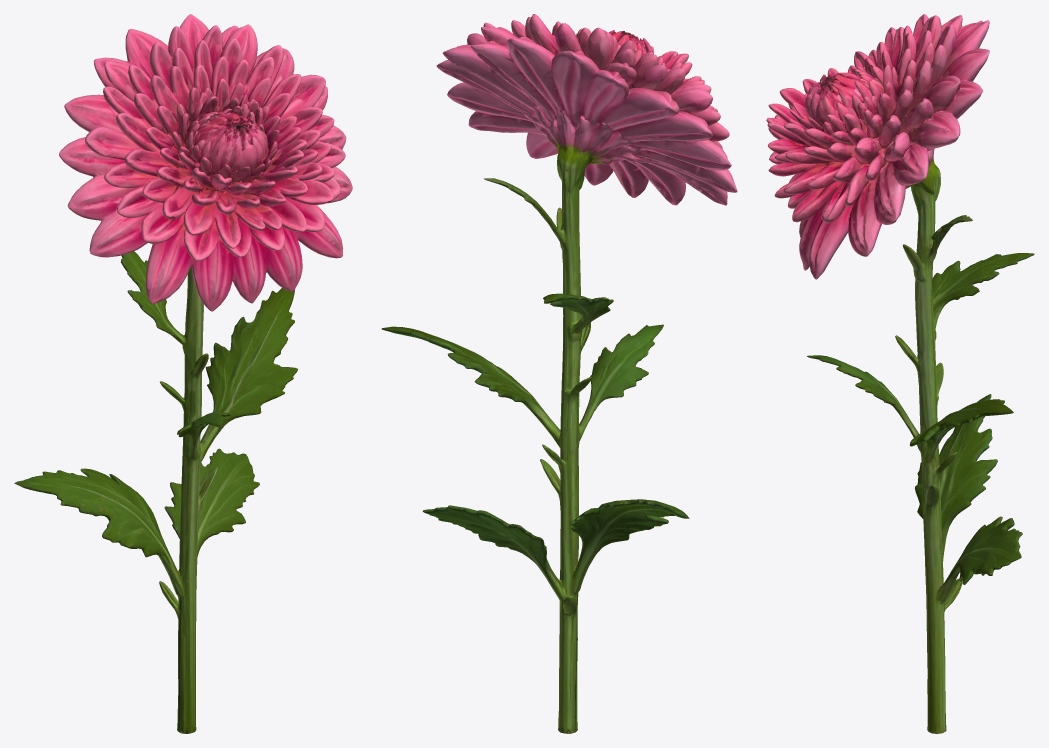
The model's file is pinkChrysanthemums.glb.
The picture shows the model from 3 angles, left to right: view 1: azimuth 30°, elevation 25°; view 2: azimuth 150°, elevation 25°; view 3: azimuth 270°, elevation 25°; orthographic projection.
Bounding box in the file's own units: 0.8694 × 2 × 0.6909.
1 material, 1 textured.
